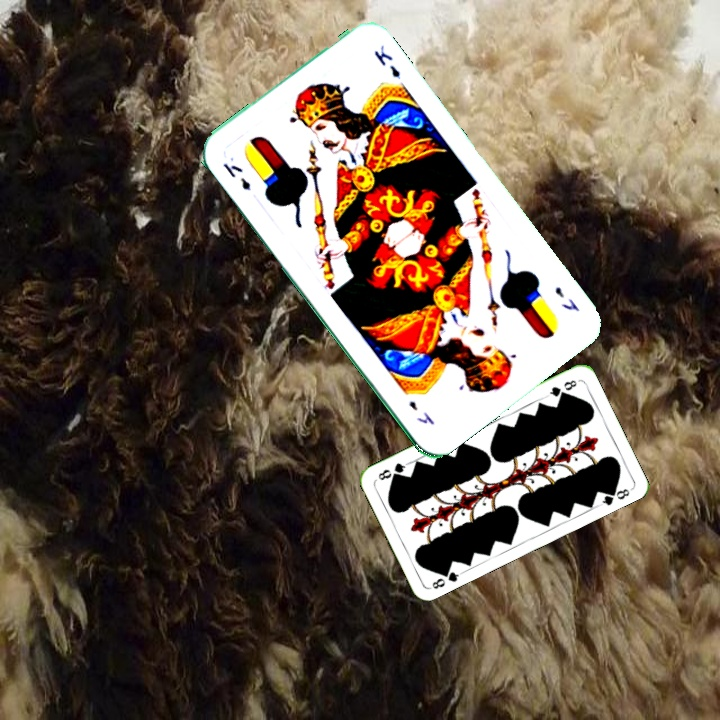EK: (219, 159, 254, 194), (551, 282, 582, 314)
G8: (427, 564, 465, 592), (543, 376, 579, 399)
